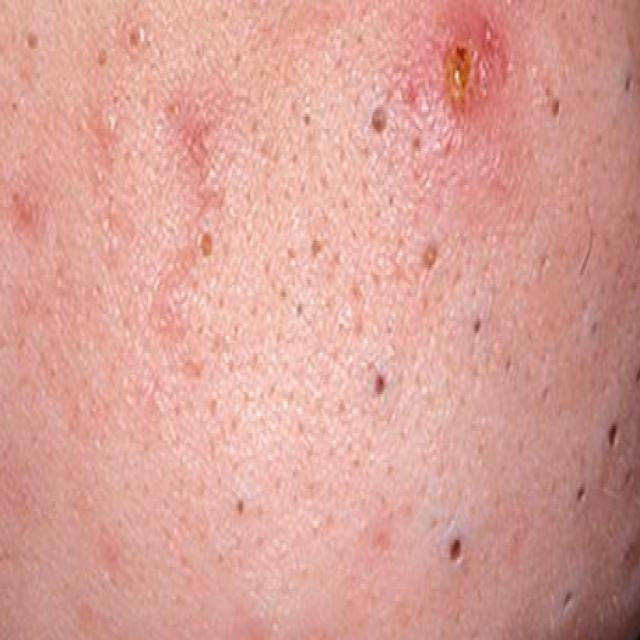blackhead: (560, 586, 576, 610), (374, 370, 388, 396), (372, 108, 386, 132), (624, 464, 634, 488), (201, 235, 211, 257), (425, 248, 435, 268), (450, 540, 460, 560), (608, 423, 616, 448), (312, 240, 322, 258), (129, 31, 140, 47), (98, 50, 107, 66), (577, 486, 585, 503), (26, 35, 36, 48), (474, 318, 481, 334), (303, 114, 311, 127), (624, 78, 631, 92), (236, 501, 243, 515), (553, 100, 559, 116), (412, 138, 420, 150), (634, 368, 640, 382), (542, 388, 548, 401), (505, 360, 510, 373), (12, 102, 17, 110)
